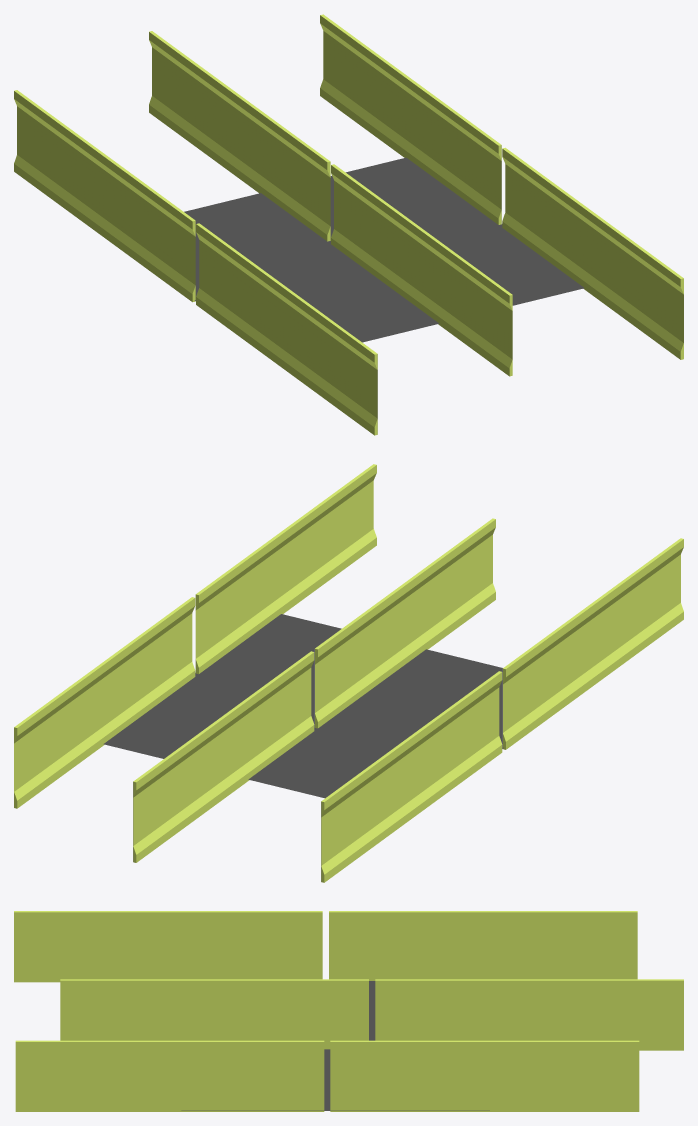
The model's file is Narrow_gap.dae.
3 renders of one model, top to bottom at view 1: azimuth 30°, elevation 25°; view 2: azimuth 150°, elevation 25°; view 3: azimuth 270°, elevation 25°, orthographic. The views are drawn at different scales.
Parts seen in each view (by area): view 1: node_f4b09c5e_d6e6_4aa5_802e_badb77c952c2_mesh1, node_f4b09c5e_d6e6_4aa5_802e_badb77c952c2_mesh2, node_f4b09c5e_d6e6_4aa5_802e_badb77c952c2_mesh0, node_f4b09c5e_d6e6_4aa5_802e_badb77c952c2_mesh3, node_f4b09c5e_d6e6_4aa5_802e_badb77c952c2_mesh5, node_f4b09c5e_d6e6_4aa5_802e_badb77c952c2_mesh6, node_f4b09c5e_d6e6_4aa5_802e_badb77c952c2_mesh4; view 2: node_f4b09c5e_d6e6_4aa5_802e_badb77c952c2_mesh1, node_f4b09c5e_d6e6_4aa5_802e_badb77c952c2_mesh0, node_f4b09c5e_d6e6_4aa5_802e_badb77c952c2_mesh2, node_f4b09c5e_d6e6_4aa5_802e_badb77c952c2_mesh3, node_f4b09c5e_d6e6_4aa5_802e_badb77c952c2_mesh5, node_f4b09c5e_d6e6_4aa5_802e_badb77c952c2_mesh6, node_f4b09c5e_d6e6_4aa5_802e_badb77c952c2_mesh4; view 3: node_f4b09c5e_d6e6_4aa5_802e_badb77c952c2_mesh6, node_f4b09c5e_d6e6_4aa5_802e_badb77c952c2_mesh5, node_f4b09c5e_d6e6_4aa5_802e_badb77c952c2_mesh0, node_f4b09c5e_d6e6_4aa5_802e_badb77c952c2_mesh2, node_f4b09c5e_d6e6_4aa5_802e_badb77c952c2_mesh3, node_f4b09c5e_d6e6_4aa5_802e_badb77c952c2_mesh4, node_f4b09c5e_d6e6_4aa5_802e_badb77c952c2_mesh1.
Part boxes in pixels (x1,y1,x2,y2): node_f4b09c5e_d6e6_4aa5_802e_badb77c952c2_mesh1: (184, 157, 584, 342); node_f4b09c5e_d6e6_4aa5_802e_badb77c952c2_mesh2: (14, 90, 195, 302); node_f4b09c5e_d6e6_4aa5_802e_badb77c952c2_mesh0: (196, 223, 377, 435); node_f4b09c5e_d6e6_4aa5_802e_badb77c952c2_mesh3: (149, 31, 330, 241); node_f4b09c5e_d6e6_4aa5_802e_badb77c952c2_mesh5: (502, 147, 683, 359); node_f4b09c5e_d6e6_4aa5_802e_badb77c952c2_mesh6: (320, 14, 501, 224); node_f4b09c5e_d6e6_4aa5_802e_badb77c952c2_mesh4: (331, 164, 512, 376); node_f4b09c5e_d6e6_4aa5_802e_badb77c952c2_mesh1: (103, 614, 503, 798); node_f4b09c5e_d6e6_4aa5_802e_badb77c952c2_mesh0: (502, 538, 683, 749); node_f4b09c5e_d6e6_4aa5_802e_badb77c952c2_mesh2: (321, 671, 502, 882); node_f4b09c5e_d6e6_4aa5_802e_badb77c952c2_mesh3: (133, 651, 314, 862); node_f4b09c5e_d6e6_4aa5_802e_badb77c952c2_mesh5: (195, 464, 376, 674); node_f4b09c5e_d6e6_4aa5_802e_badb77c952c2_mesh6: (14, 597, 195, 808); node_f4b09c5e_d6e6_4aa5_802e_badb77c952c2_mesh4: (314, 518, 495, 728); node_f4b09c5e_d6e6_4aa5_802e_badb77c952c2_mesh6: (330, 1040, 639, 1111); node_f4b09c5e_d6e6_4aa5_802e_badb77c952c2_mesh5: (15, 1040, 324, 1111); node_f4b09c5e_d6e6_4aa5_802e_badb77c952c2_mesh0: (14, 911, 322, 982); node_f4b09c5e_d6e6_4aa5_802e_badb77c952c2_mesh2: (329, 911, 637, 980); node_f4b09c5e_d6e6_4aa5_802e_badb77c952c2_mesh3: (375, 979, 683, 1050); node_f4b09c5e_d6e6_4aa5_802e_badb77c952c2_mesh4: (60, 979, 368, 1049); node_f4b09c5e_d6e6_4aa5_802e_badb77c952c2_mesh1: (181, 981, 489, 1110).
Size of the model in its own units: 5030 by 1250 by 10850.
